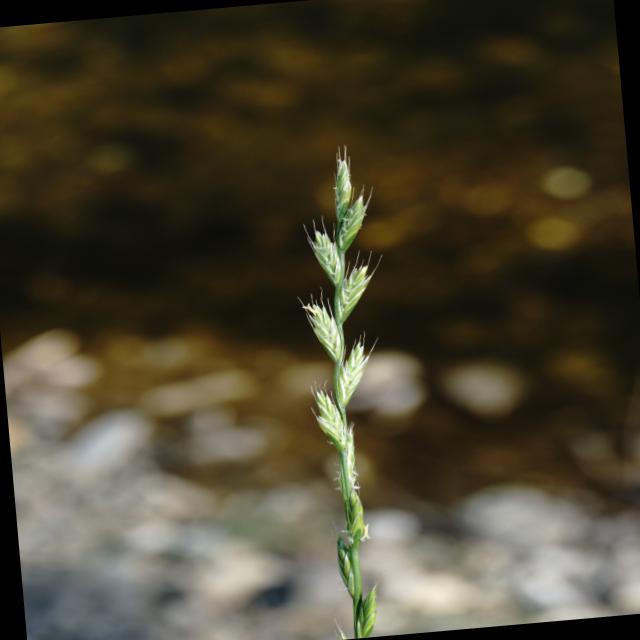Lolium: (281, 141, 417, 639)
